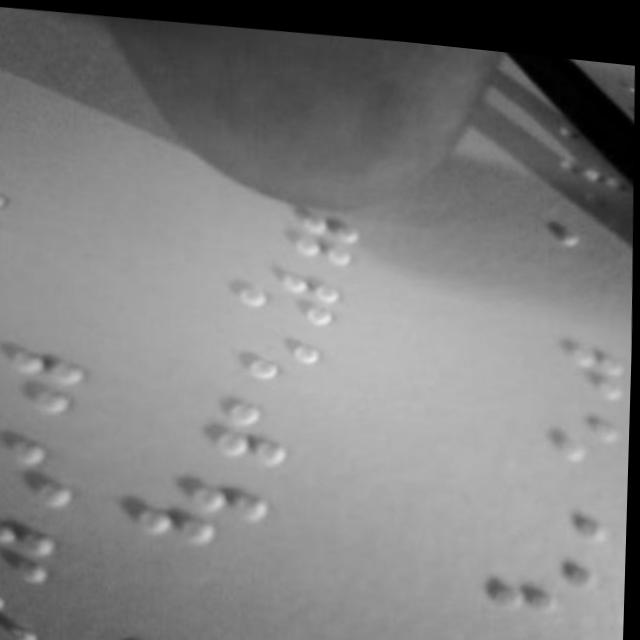braiile: (134, 459, 280, 552), (168, 386, 292, 463), (242, 189, 369, 262), (220, 254, 351, 324), (491, 534, 608, 611), (202, 319, 324, 389), (514, 390, 624, 463), (528, 322, 633, 389), (509, 471, 613, 537)
